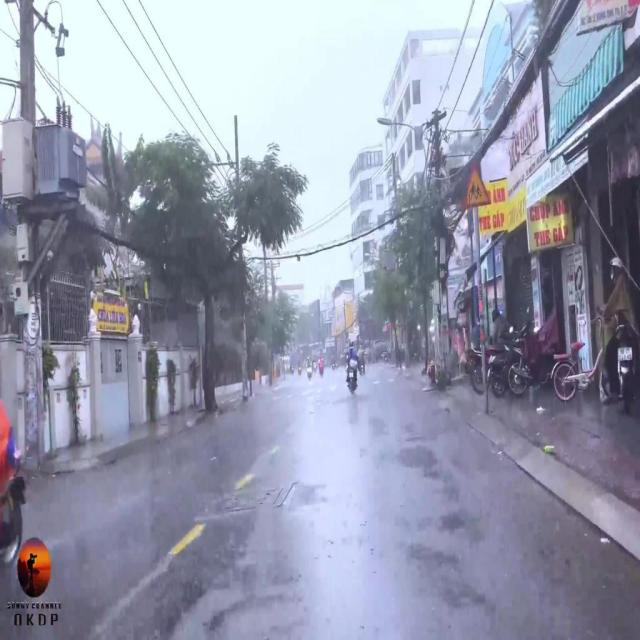chu_y_tre_em: (462, 161, 491, 209)
